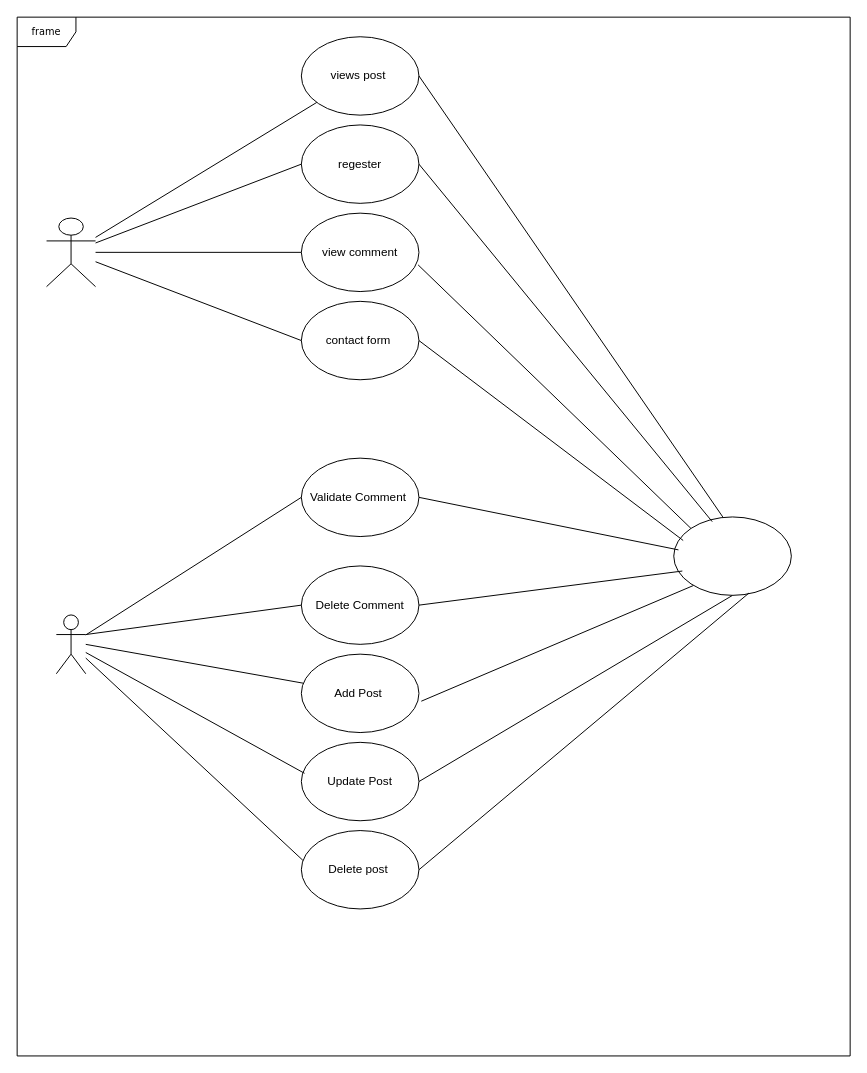
Some shapes in this 867 by 1073 pixel diagram are drawn without their labels. The shapes that lost their labels are listed below. From the top down, each one's centre as x and y in pixels, then its label:
At (71,252): "visitor".
At (732,555): "Database".
At (70,644): "Admin".
